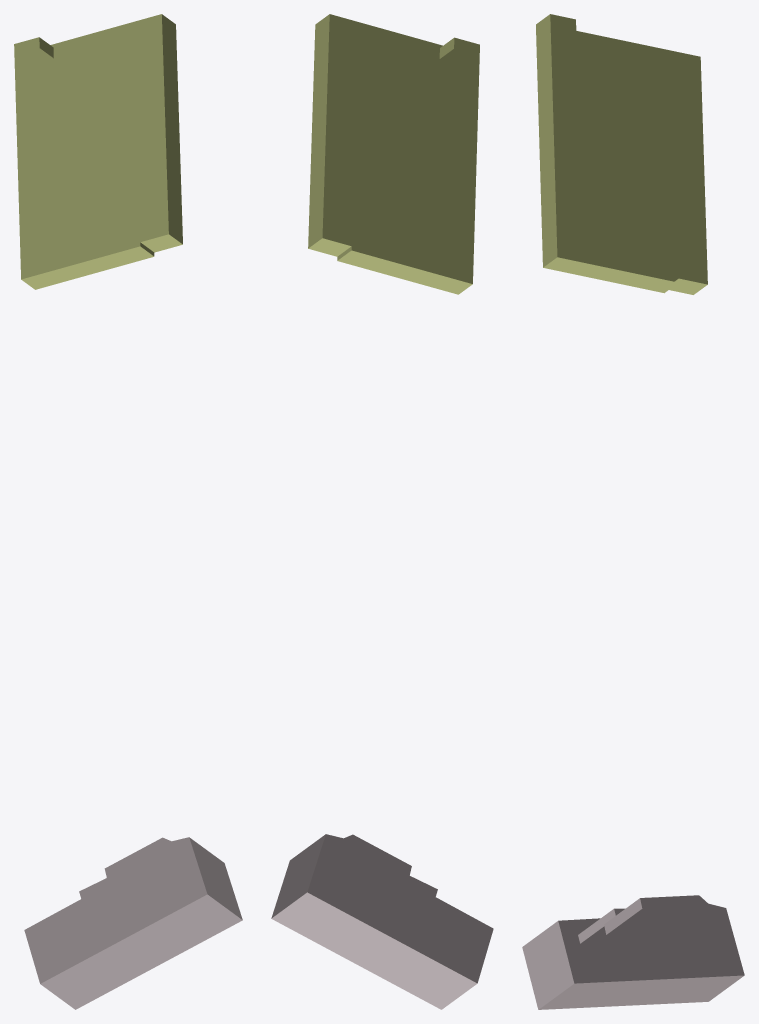
The picture shows the model from 3 angles, left to right: view 1: azimuth 30°, elevation 25°; view 2: azimuth 150°, elevation 25°; view 3: azimuth 330°, elevation 25°; orthographic projection.
Visible parts, largest first — view 1: 0_0_3_1_2_3_3; view 2: 0_0_3_1_2_3_3; view 3: 0_0_3_1_2_3_3.
Part boxes in pixels (x1,y1,x2,y2): 0_0_3_1_2_3_3: (14, 14, 242, 1009); 0_0_3_1_2_3_3: (271, 14, 493, 1009); 0_0_3_1_2_3_3: (522, 14, 744, 1009).
Size of the model in its own units: 47.01 by 221 by 15.5.
